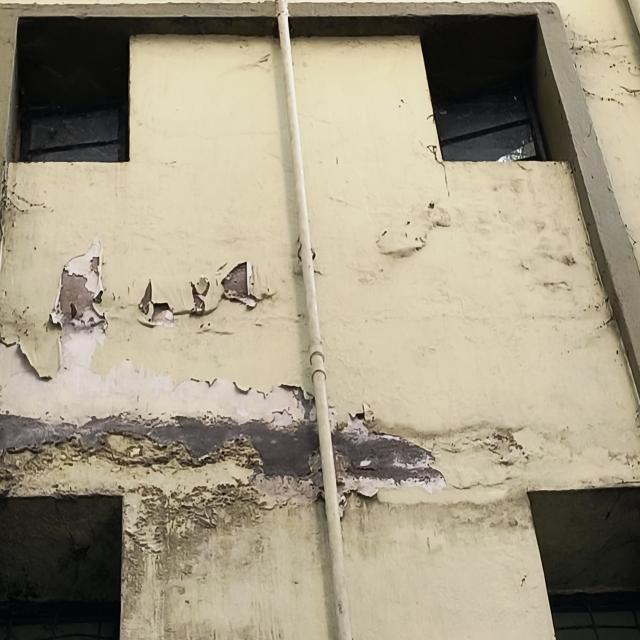Paint Peeling: (0, 329, 304, 423), (335, 425, 445, 518), (138, 261, 272, 326), (50, 239, 107, 328)
Scaling: (0, 414, 324, 619), (421, 429, 528, 490), (376, 201, 450, 256)
